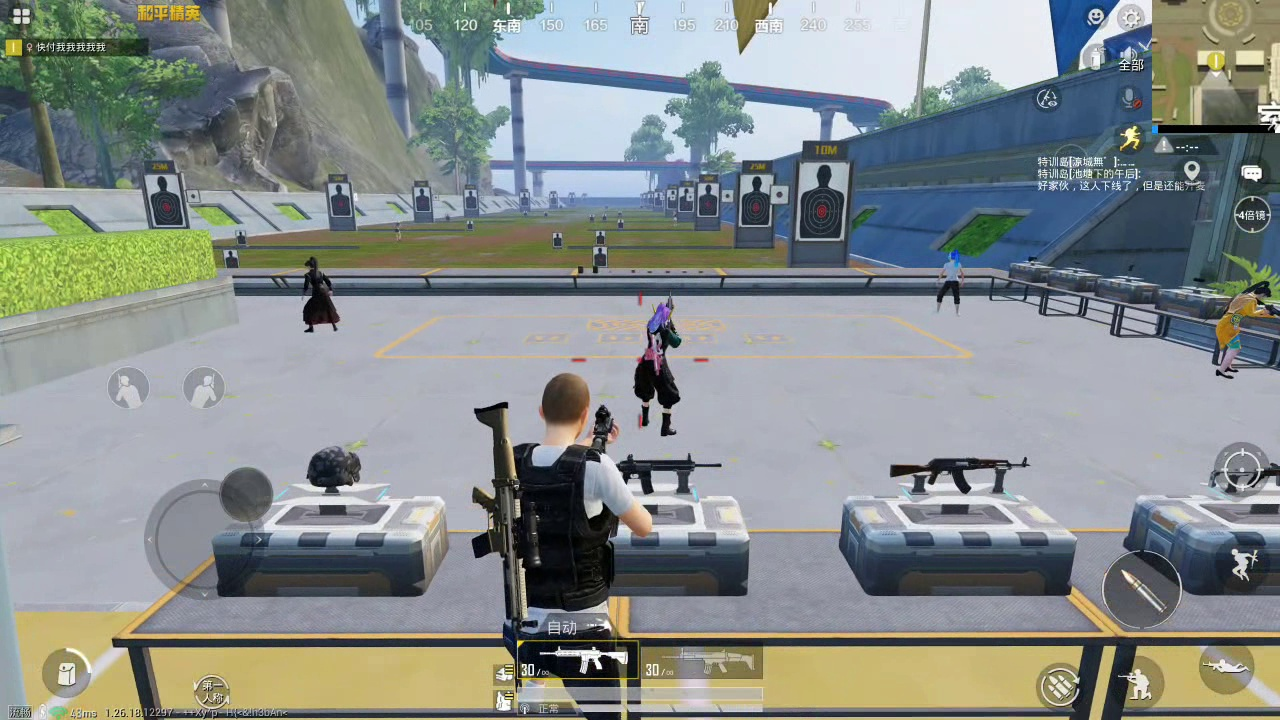enemy: (634, 298, 684, 438), (1212, 280, 1270, 380), (299, 255, 340, 332), (935, 249, 960, 312)
